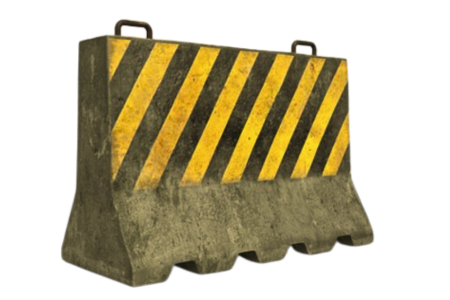Barrier: (54, 11, 381, 292)
